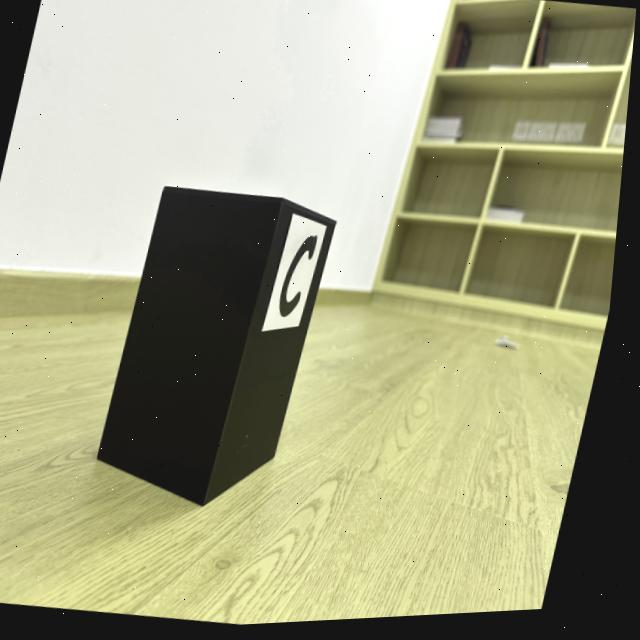C: (285, 239, 322, 320)
